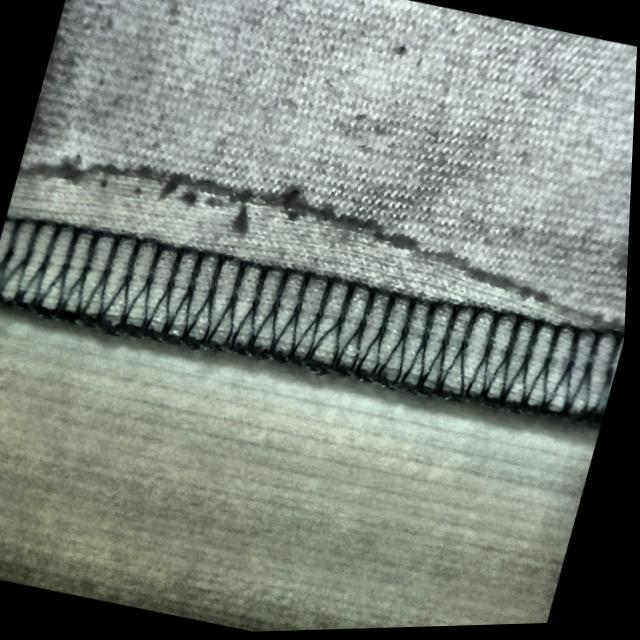seam: (0, 100, 636, 449)
